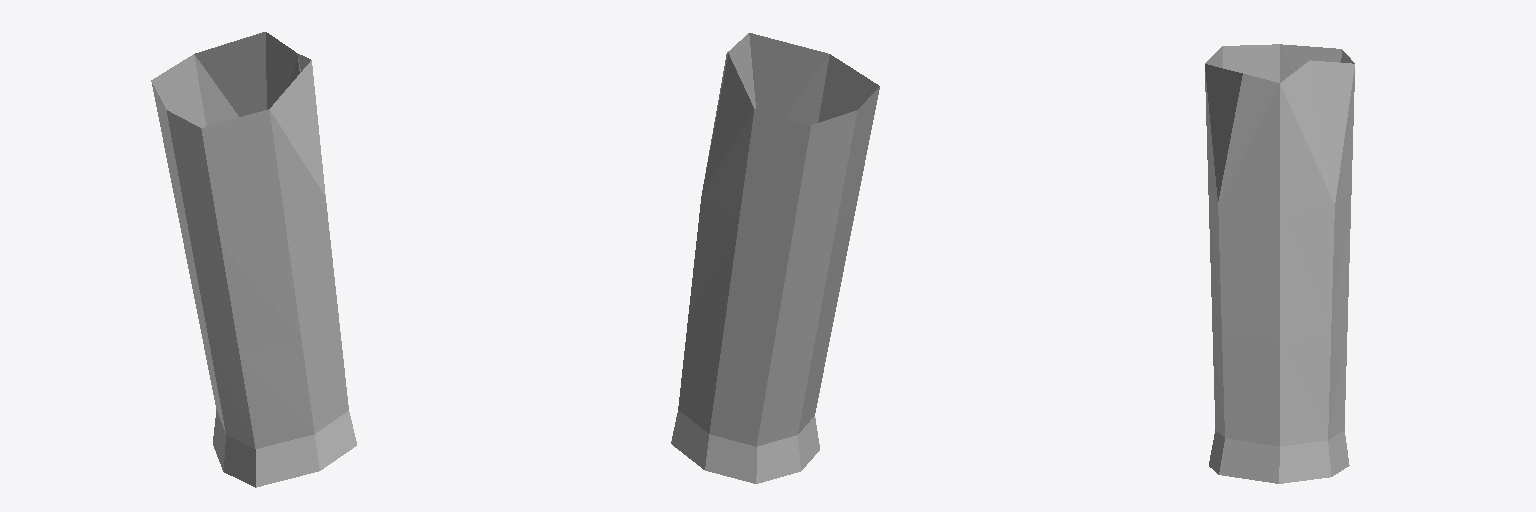
File: upperLarm.obj
The picture shows the model from 3 angles: view 1: azimuth 30°, elevation 25°; view 2: azimuth 150°, elevation 25°; view 3: azimuth 270°, elevation 25°; orthographic projection.
Visible parts, largest first — view 1: upperLarm_Cube.003; view 2: upperLarm_Cube.003; view 3: upperLarm_Cube.003.
Boxes of the visible parts, box(x1,y1,x2,y2) form: upperLarm_Cube.003: box(151, 32, 356, 487); upperLarm_Cube.003: box(671, 33, 879, 483); upperLarm_Cube.003: box(1205, 44, 1354, 483).
Bounding box in the file's own units: 0.3952 × 0.8753 × 0.2877.